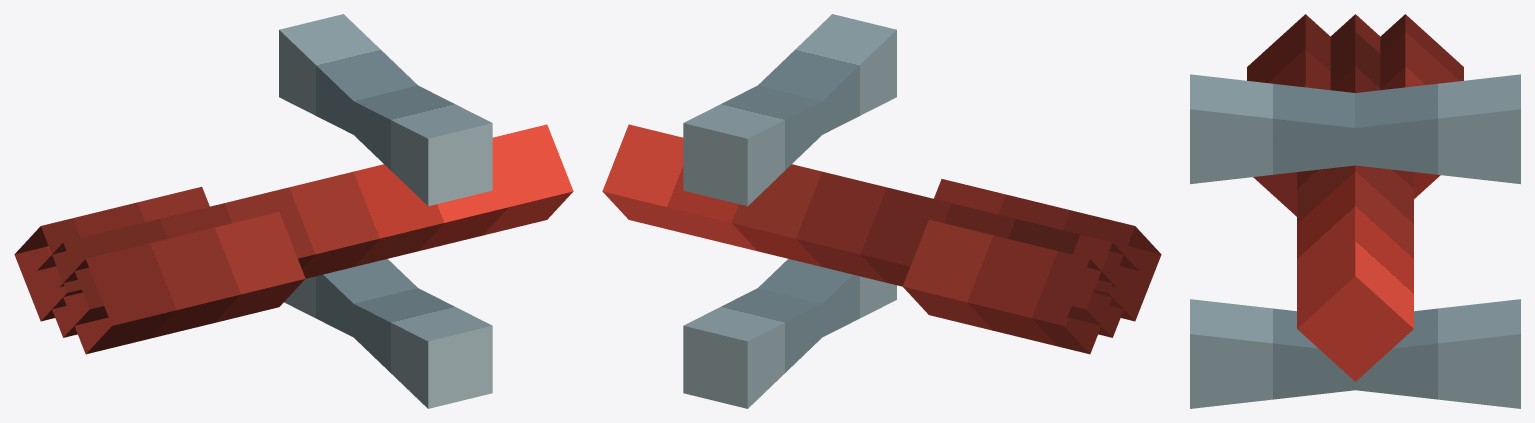
The model's file is signalite_spike_equating.obj.
3 views of the same model, side by side, from view 1: azimuth 30°, elevation 25°; view 2: azimuth 150°, elevation 25°; view 3: azimuth 270°, elevation 25° (orthographic). The views are drawn at different scales.
Visible parts, largest first — view 1: SPIKE_EQUATING_Cube.008; view 2: SPIKE_EQUATING_Cube.008; view 3: SPIKE_EQUATING_Cube.008.
Part boxes in pixels (<box>): SPIKE_EQUATING_Cube.008: <box>14,14,573,408</box>; SPIKE_EQUATING_Cube.008: <box>602,14,1161,408</box>; SPIKE_EQUATING_Cube.008: <box>1190,14,1520,408</box>.
Size of the model in its own units: 0.4688 by 0.25 by 0.25.
